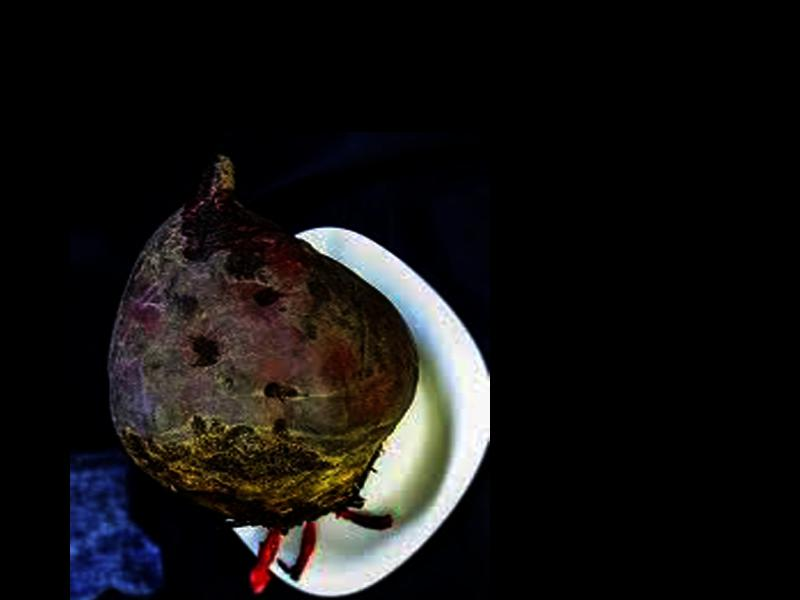Beet: (111, 156, 416, 594)
